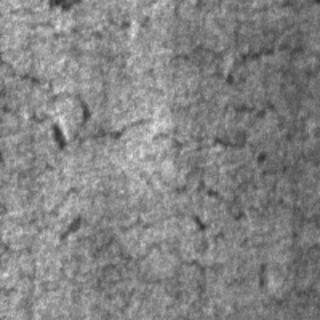crazing: (140, 125, 248, 217), (143, 44, 277, 118), (0, 54, 94, 150)
